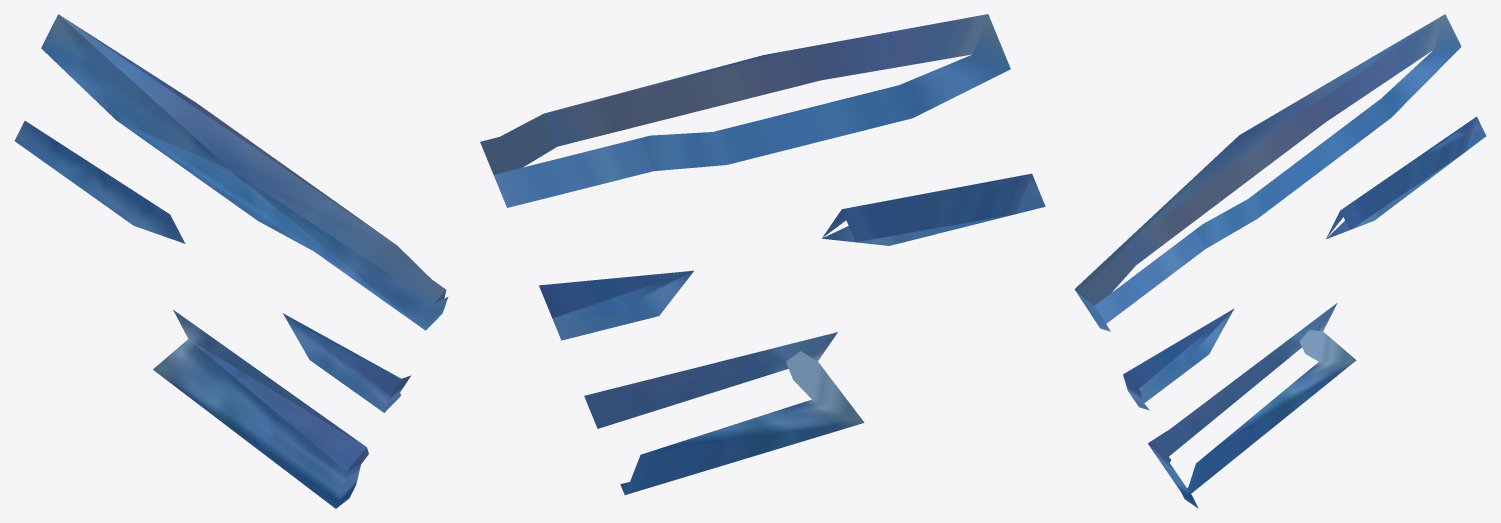
The picture shows the model from 3 angles, left to right: view 1: azimuth 30°, elevation 25°; view 2: azimuth 210°, elevation 25°; view 3: azimuth 270°, elevation 25°; orthographic projection. The views are drawn at different scales.
Bounding box in the file's own units: 8.92 × 15.69 × 14.03.
1 material, 1 textured.
